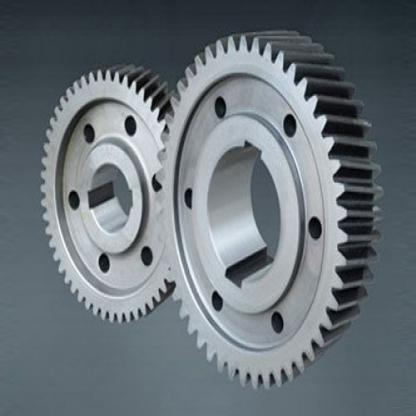FOD: (150, 22, 382, 389), (38, 59, 193, 322)
